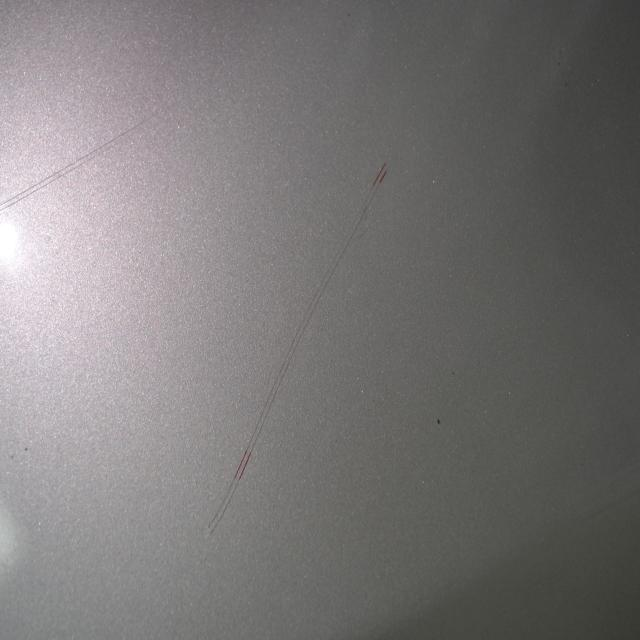dirt: (433, 416, 442, 426)
scratch: (203, 150, 393, 541)
